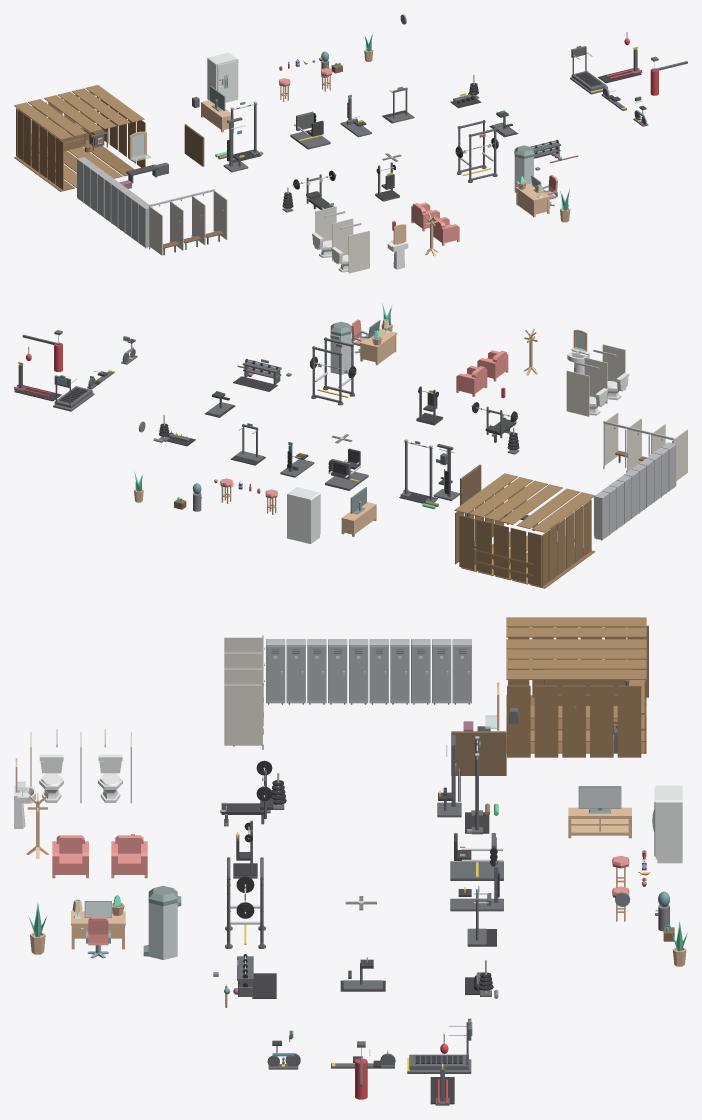
Rendered from gym_stations.glb.
The picture shows the model from 3 angles, top to bottom: view 1: azimuth 30°, elevation 25°; view 2: azimuth 150°, elevation 25°; view 3: azimuth 270°, elevation 25°; orthographic projection. The views are drawn at different scales.
Parts seen in each view (by area): view 1: SM_Dress_Sauna, SM_Dress_Lockers, SM_Dress_Booths, SM_Dress_Fridge, SM_Dress_Extra, SM_Station_Squat, SM_Station_LegPress, SM_Dress_WCSideA, SM_Dress_Desk, SM_Station_Treadmill, SM_Dress_Trash, SM_Station_Bench (+12 smaller); view 2: SM_Dress_Sauna, SM_Dress_Lockers, SM_Dress_Booths, SM_Dress_Fridge, SM_Station_Squat, SM_Dress_Extra, SM_Station_LegPress, SM_Dress_WCSideB, SM_Dress_Trash, SM_Station_Dumbbells, SM_Dress_Desk, SM_Station_Treadmill (+12 smaller); view 3: SM_Dress_Sauna, SM_Dress_Lockers, SM_Dress_Booths, SM_Dress_Extra, SM_Dress_Fridge, SM_Dress_Trash, SM_Dress_TVCab, SM_Station_LegPress, SM_Station_Squat, SM_Station_Treadmill, SM_Dress_WaitA, SM_Dress_WaitB (+13 smaller).
Part boxes in pixels (x1,y1,x2,y2): SM_Dress_Sauna: (14,85,145,191); SM_Dress_Lockers: (77,157,152,248); SM_Dress_Booths: (149,189,227,255); SM_Dress_Fridge: (207,52,238,102); SM_Dress_Extra: (152,31,687,230); SM_Station_Squat: (455,120,499,182); SM_Station_LegPress: (290,111,330,149); SM_Dress_WCSideA: (348,230,369,273); SM_Dress_Desk: (515,183,550,217); SM_Station_Treadmill: (570,45,608,94); SM_Dress_Trash: (514,145,533,192); SM_Station_Bench: (292,170,336,209); SM_Dress_Sauna: (454,473,595,588); SM_Dress_Lockers: (594,442,676,540); SM_Dress_Booths: (603,412,687,480); SM_Dress_Fridge: (287,487,320,543); SM_Station_Squat: (309,337,356,405); SM_Dress_Extra: (22,335,511,517); SM_Station_LegPress: (325,448,368,490); SM_Dress_WCSideB: (566,370,589,416); SM_Dress_Trash: (330,321,351,374); SM_Station_Dumbbells: (233,359,281,391); SM_Dress_Desk: (359,328,397,365); SM_Station_Treadmill: (53,375,94,411); SM_Dress_Sauna: (506,617,648,757); SM_Dress_Lockers: (266,639,471,704); SM_Dress_Booths: (224,635,264,749); SM_Dress_Extra: (131,731,674,1086); SM_Dress_Fridge: (652,785,682,863); SM_Dress_Trash: (143,885,181,959); SM_Dress_TVCab: (568,807,631,838); SM_Station_LegPress: (450,833,503,880); SM_Station_Squat: (225,857,265,948); SM_Station_Treadmill: (407,1018,472,1073); SM_Dress_WaitA: (111,835,147,878); SM_Dress_WaitB: (52,835,88,878).
Size of the model in its own units: 29.06 by 2.8 by 19.48.
Materials: 84 (6 with a texture image).
